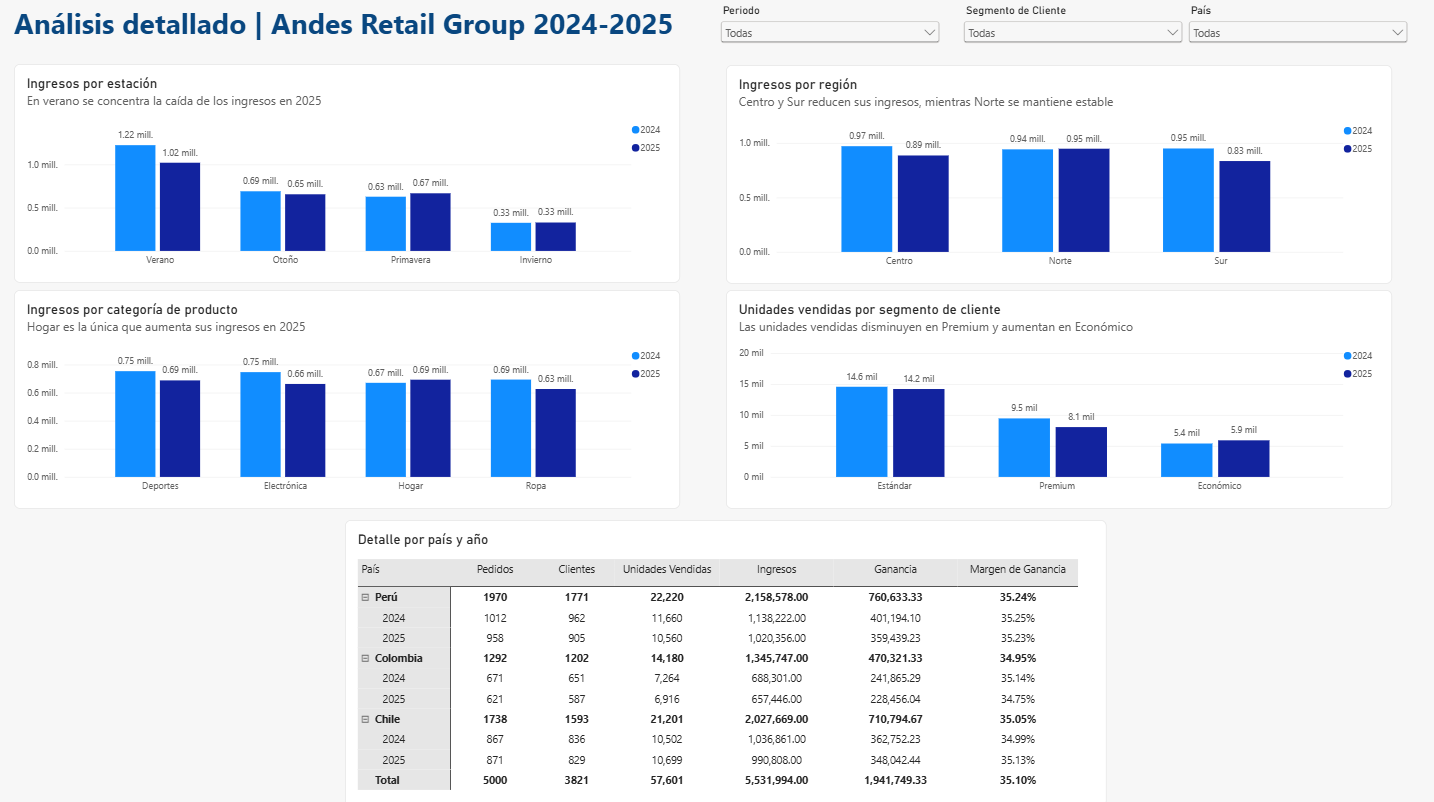

The dashboard page shown, as its layout file describes it:
{"tool":"powerbi","page":{"name":"Análisis Detallado","canvas":[1920,1080],"ordinal":1},"visuals":[{"type":"textbox","box":[25.3,13.3,1024.1,79.8],"z":0},{"type":"clusteredColumnChart","title":"Ingresos por estación ","fields":{"Category":["Andes_Retail_Group_2024_2025.Estación"],"Series":["Andes_Retail_Group_2024_2025.Fecha_Pedido.Variación.Jerarquía de fechas.Año"],"Y":["Sum(Andes_Retail_Group_2024_2025.Ingresos)"]},"box":[24.7,92.8,885.8,290.6],"z":1000},{"type":"clusteredColumnChart","title":"Ingresos por región","fields":{"Category":["Andes_Retail_Group_2024_2025.Región"],"Series":["Andes_Retail_Group_2024_2025.Fecha_Pedido.Variación.Jerarquía de fechas.Año"],"Y":["Sum(Andes_Retail_Group_2024_2025.Ingresos)"]},"box":[972.4,94.3,885.8,290.6],"z":2000},{"type":"clusteredColumnChart","title":"Ingresos por categoría de producto","fields":{"Category":["Andes_Retail_Group_2024_2025.Categoría_Producto"],"Series":["Andes_Retail_Group_2024_2025.Fecha_Pedido.Variación.Jerarquía de fechas.Año"],"Y":["Sum(Andes_Retail_Group_2024_2025.Ingresos)"]},"box":[24.7,394.2,885.8,290.6],"z":3000},{"type":"slicer","fields":{"Values":["Andes_Retail_Group_2024_2025.Fecha_Pedido.Variación.Jerarquía de fechas.Trimestre","Andes_Retail_Group_2024_2025.Fecha_Pedido.Variación.Jerarquía de fechas.Mes"]},"box":[960,13.9,300.6,69.2],"z":6000},{"type":"slicer","fields":{"Values":["Andes_Retail_Group_2024_2025.Segmento_Cliente"]},"box":[1283.1,13.9,300.6,69.2],"z":7000},{"type":"clusteredColumnChart","title":"Unidades vendidas por segmento de cliente","fields":{"Category":["Andes_Retail_Group_2024_2025.Segmento_Cliente"],"Series":["Andes_Retail_Group_2024_2025.Año"],"Y":["Sum(Andes_Retail_Group_2024_2025.Unidades_Vendidas)"]},"box":[972.4,394.2,885.8,290.6],"z":7001},{"type":"pivotTable","title":"Detalle por país y año","fields":{"Rows":["Andes_Retail_Group_2024_2025.País","Andes_Retail_Group_2024_2025.Año"],"Values":["Count(Andes_Retail_Group_2024_2025.ID_Pedido)","Count(Andes_Retail_Group_2024_2025.ID_Cliente)","Sum(Andes_Retail_Group_2024_2025.Unidades_Vendidas)","Sum(Andes_Retail_Group_2024_2025.Ingresos)","Sum(Andes_Retail_Group_2024_2025.Ganancia)","Andes_Retail_Group_2024_2025.Margen de Ganancia"]},"box":[465.2,699.8,1012.7,380.8],"z":7002},{"type":"slicer","fields":{"Values":["Andes_Retail_Group_2024_2025.País"]},"box":[1583,13.9,300.6,69.2],"z":7003}]}

Visuals, with their boxes in screenshot pixels (x1, y1, x2, y2), scaled from the page's 1920x1080 canvas onto the 1434x802 screenshot:
textbox: [x1=19, y1=10, x2=784, y2=69]
"Ingresos por estación " clusteredColumnChart: [x1=18, y1=69, x2=680, y2=285]
"Ingresos por región" clusteredColumnChart: [x1=726, y1=70, x2=1388, y2=286]
"Ingresos por categoría de producto" clusteredColumnChart: [x1=18, y1=293, x2=680, y2=509]
slicer - Andes_Retail_Group_2024_2025.Fecha_Pedido.Variación.Jerarquía de fechas.Trimestre x Andes_Retail_Group_2024_2025.Fecha_Pedido.Variación.Jerarquía de fechas.Mes: [x1=717, y1=10, x2=942, y2=62]
slicer - Andes_Retail_Group_2024_2025.Segmento_Cliente: [x1=958, y1=10, x2=1183, y2=62]
"Unidades vendidas por segmento de cliente" clusteredColumnChart: [x1=726, y1=293, x2=1388, y2=509]
"Detalle por país y año" pivotTable: [x1=347, y1=520, x2=1104, y2=801]
slicer - Andes_Retail_Group_2024_2025.País: [x1=1182, y1=10, x2=1407, y2=62]
